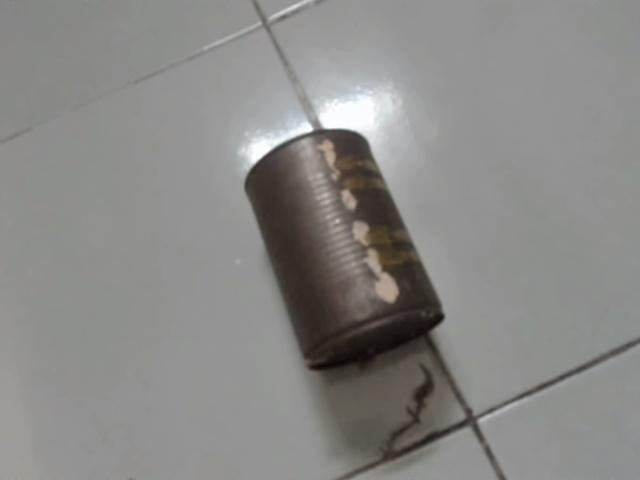anorganik: (237, 123, 451, 380)
